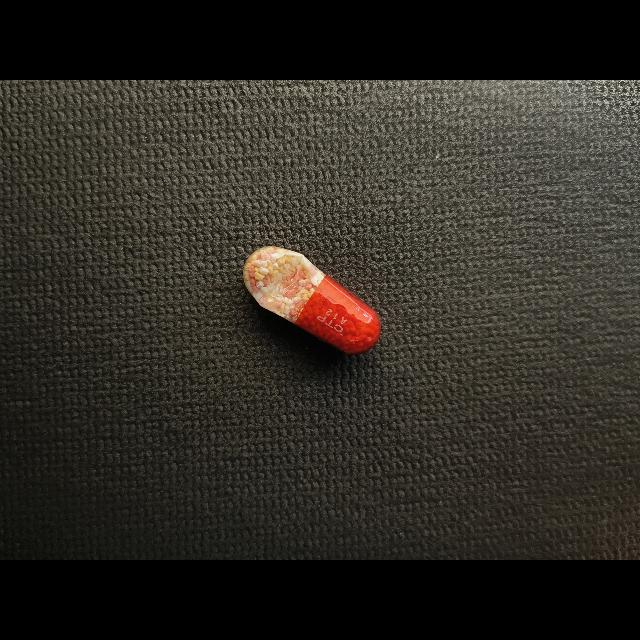Defective Capsule: (243, 246, 381, 354)
